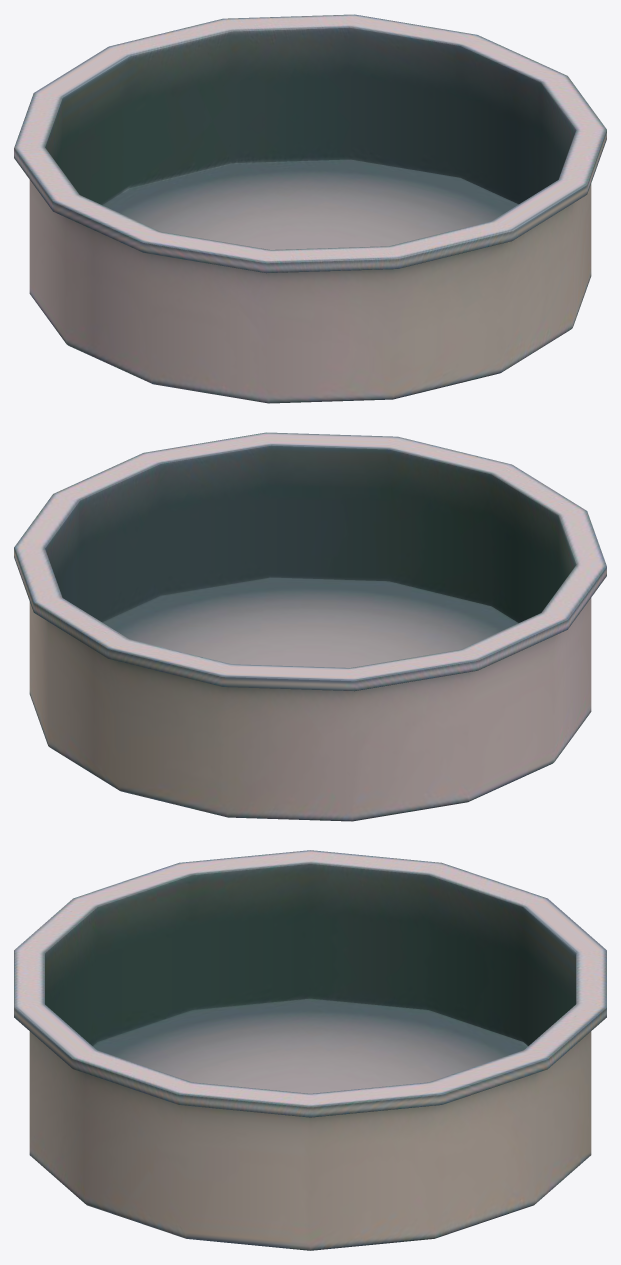
File: bakingTin.glb
3 renders of one model, top to bottom at view 1: azimuth 30°, elevation 25°; view 2: azimuth 150°, elevation 25°; view 3: azimuth 270°, elevation 25°, orthographic. The views are drawn at different scales.
Parts seen in each view (by area): view 1: BakingTin; view 2: BakingTin; view 3: BakingTin.
Part boxes in pixels (<box>): BakingTin: <box>14,14,606,403</box>; BakingTin: <box>14,432,606,821</box>; BakingTin: <box>14,850,606,1250</box>.
Size of the model in its own units: 0.4193 by 0.1154 by 0.4088.
1 material, 1 textured.
